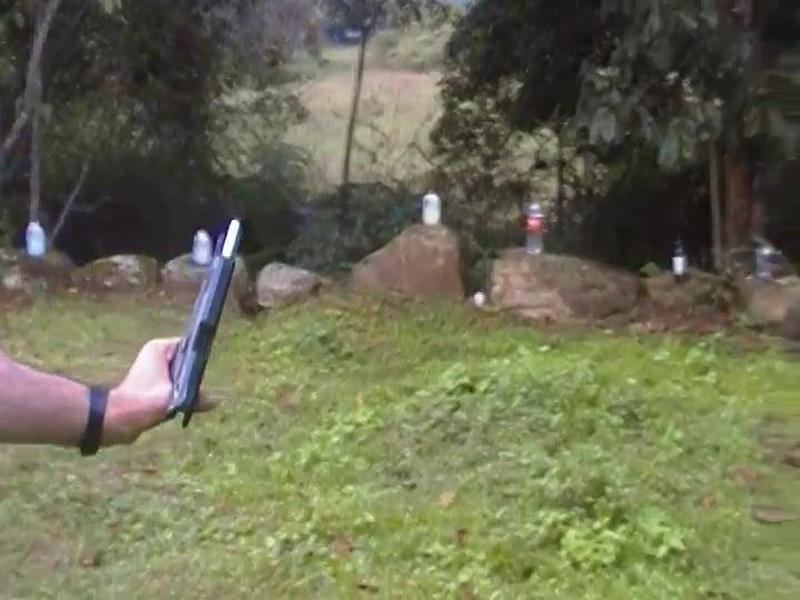Pistola: (121, 253, 264, 413)
